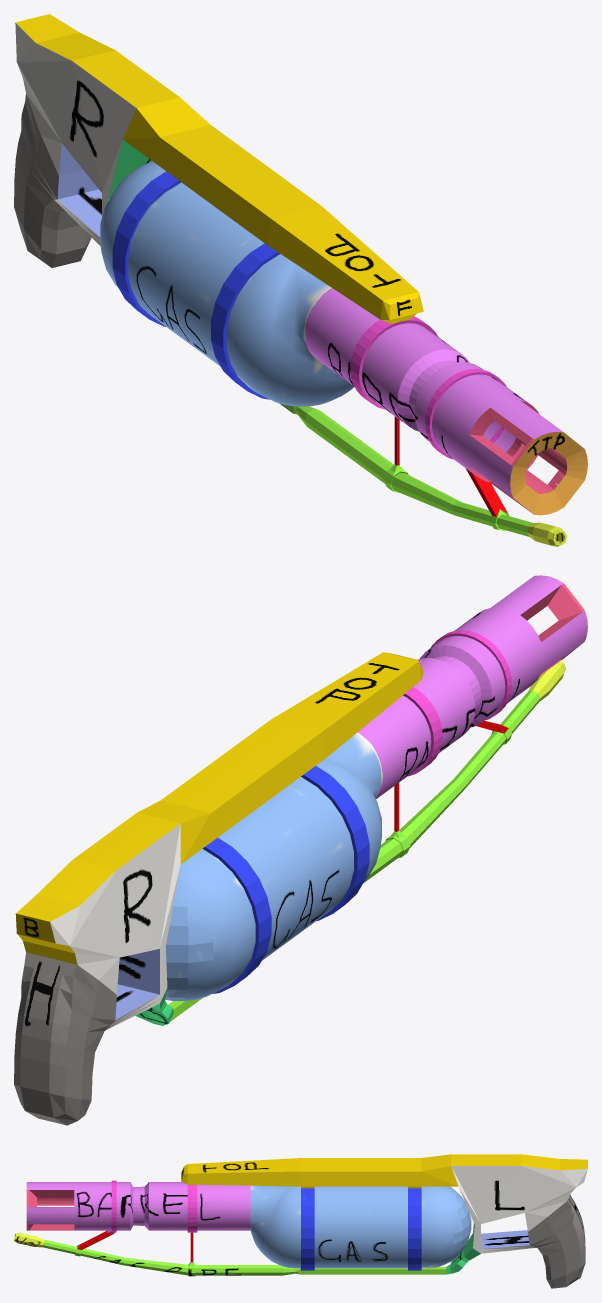
File: flamethrower.dae
The picture shows the model from 3 angles, top to bottom: view 1: azimuth 30°, elevation 25°; view 2: azimuth 150°, elevation 25°; view 3: azimuth 270°, elevation 25°; orthographic projection. The views are drawn at different scales.
Parts seen in each view (by area): view 1: Barrel.001; view 2: Barrel.001; view 3: Barrel.001.
Boxes of the visible parts, x1,y1,x2,y2 form: Barrel.001: [14, 14, 587, 546]; Barrel.001: [14, 575, 587, 1125]; Barrel.001: [14, 1154, 587, 1288].
Bounding box in the file's own units: 0.1708 × 1.07 × 0.2563.
1 material, 1 textured.
